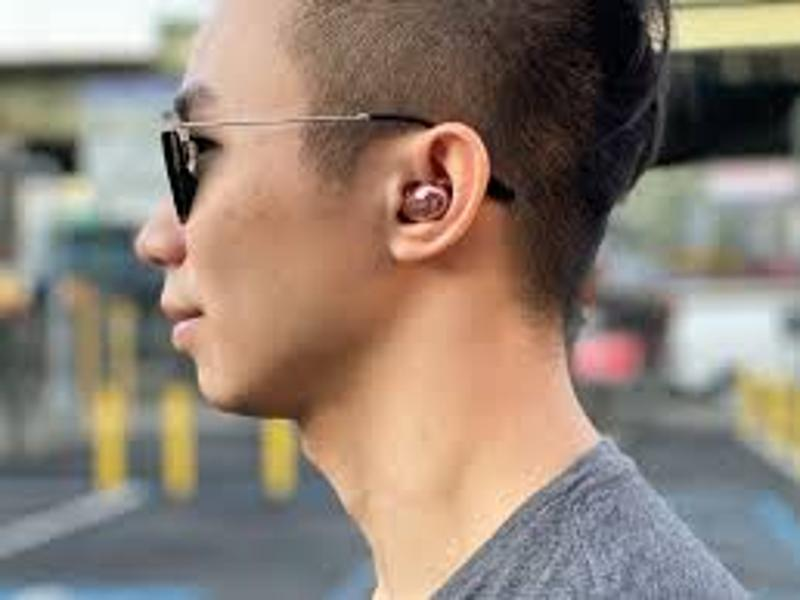headphone: (399, 181, 454, 224)
